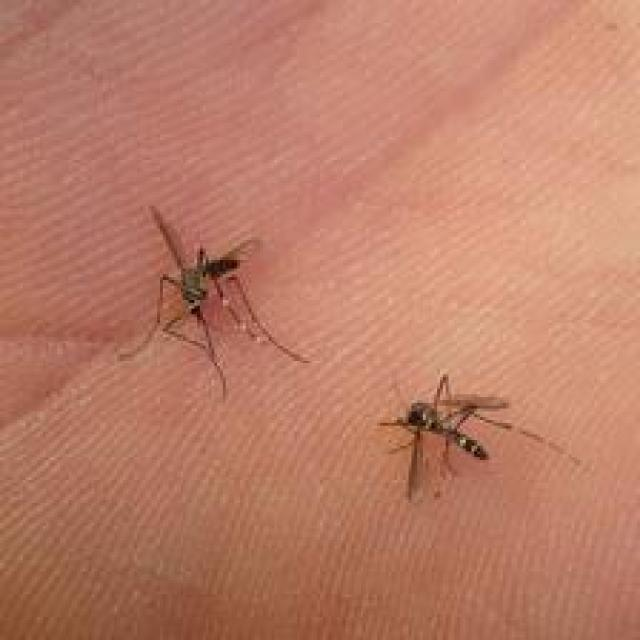Aedes albopictus: (115, 205, 312, 402)
